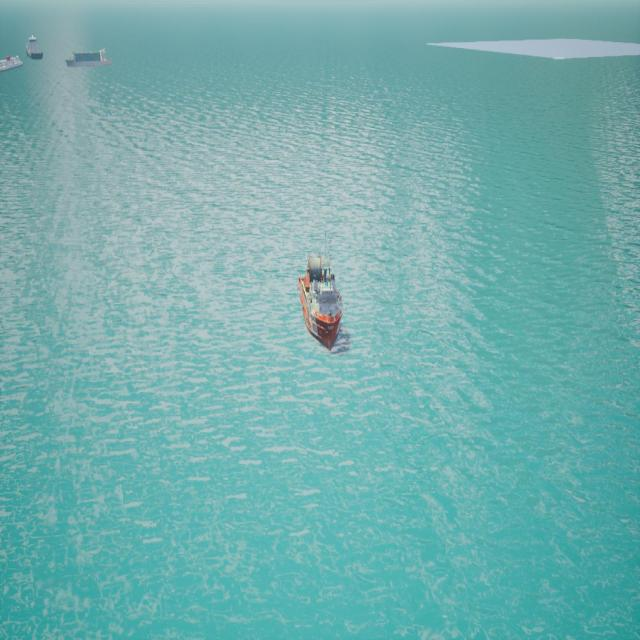tug boat: (300, 251, 344, 352)
